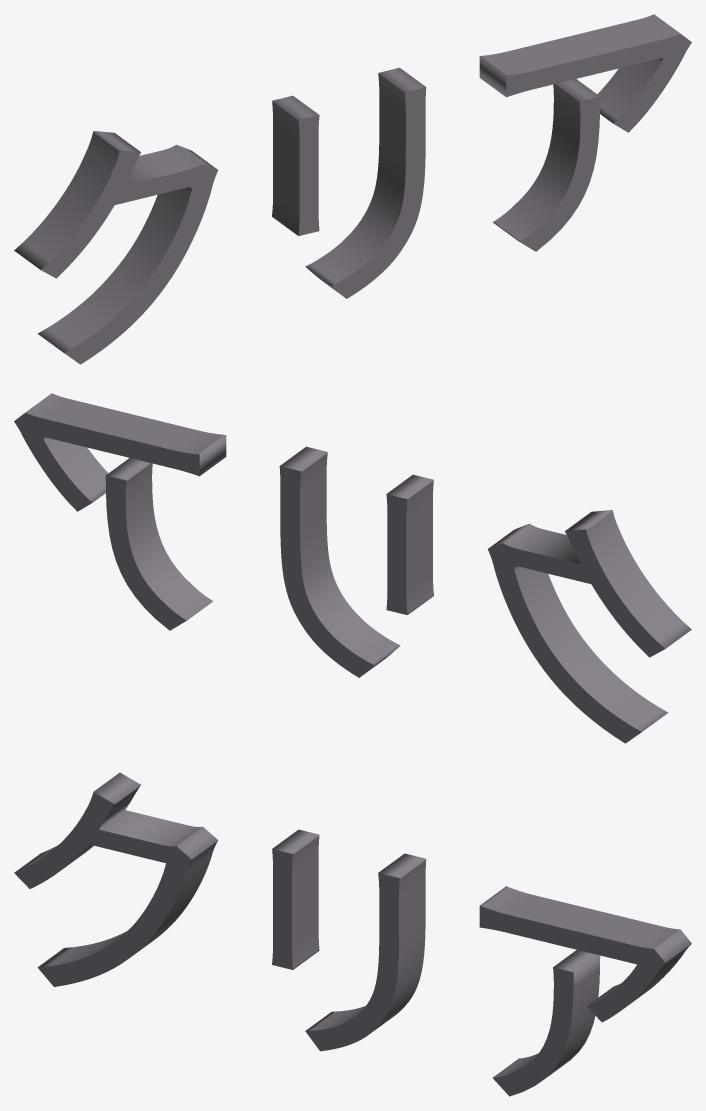
The model's file is Clear.obj.
3 views of the same model, one above another, from view 1: azimuth 30°, elevation 25°; view 2: azimuth 150°, elevation 25°; view 3: azimuth 330°, elevation 25° (orthographic).
Visible parts, largest first — view 1: テキスト; view 2: テキスト; view 3: テキスト.
Boxes of the visible parts, x1,y1,x2,y2 form: テキスト: [14, 14, 691, 364]; テキスト: [14, 393, 691, 743]; テキスト: [14, 772, 691, 1096].
Bounding box in the file's own units: 2.83 × 0.851 × 0.2.
Materials: 1 (1 with a texture image).
